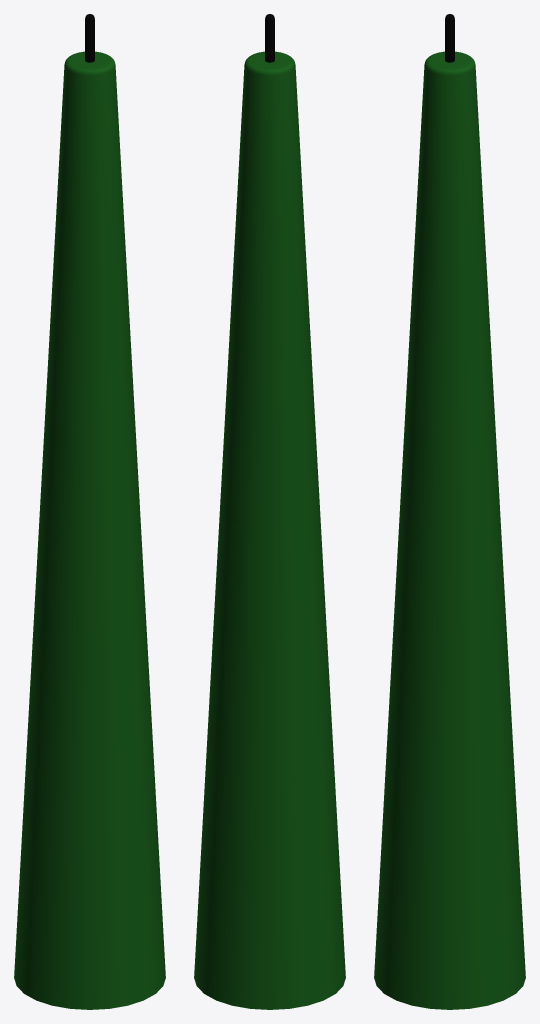
File: CANDLE - GREEN.fbx
3 views of the same model, side by side, from view 1: azimuth 30°, elevation 25°; view 2: azimuth 150°, elevation 25°; view 3: azimuth 270°, elevation 25° (orthographic).
Parts seen in each view (by area): view 1: Cone001, Object; view 2: Cone001, Object; view 3: Cone001, Object.
Part boxes in pixels (x1,y1,x2,y2): Cone001: [14, 51, 165, 1009]; Object: [85, 14, 94, 62]; Cone001: [194, 51, 345, 1009]; Object: [265, 14, 274, 62]; Cone001: [374, 51, 525, 1009]; Object: [445, 14, 454, 62].
Bounding box in the file's own units: 3 × 21 × 3.
